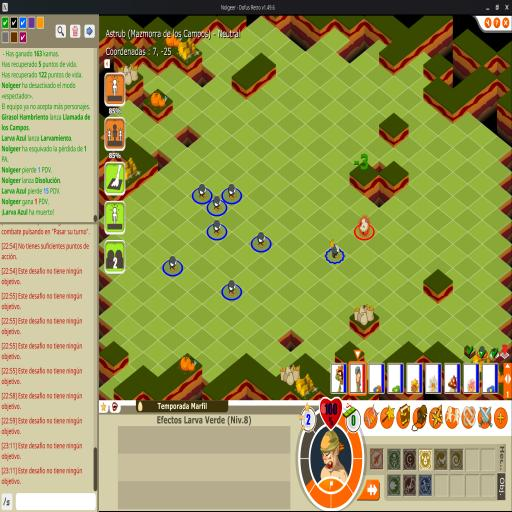Enemigos: (329, 238, 342, 258), (213, 195, 222, 213), (212, 220, 222, 236), (198, 184, 208, 200), (228, 280, 237, 296), (169, 256, 178, 272), (228, 184, 237, 200), (258, 232, 266, 248)
Personaje: (359, 216, 370, 236)
